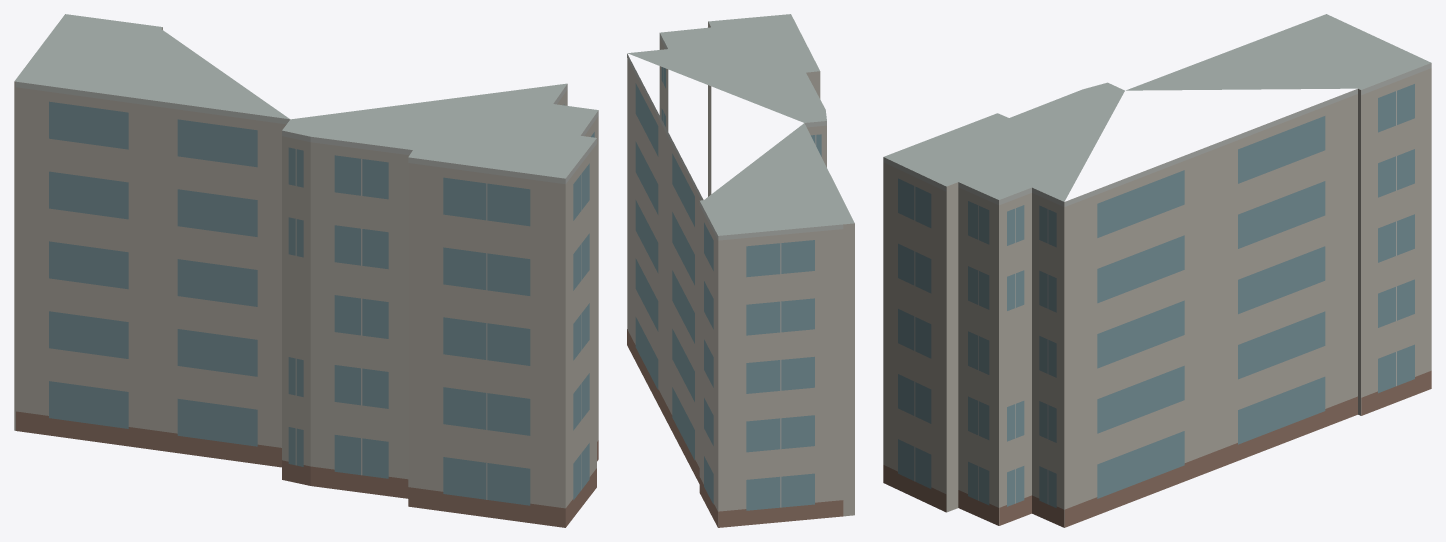
The model's file is survey-upis-32622081.glb.
3 renders of one model, left to right at view 1: azimuth 30°, elevation 25°; view 2: azimuth 150°, elevation 25°; view 3: azimuth 270°, elevation 25°, orthographic. The views are drawn at different scales.
Parts seen in each view (by area): view 1: survey-upis-32622081.tmp; view 2: survey-upis-32622081.tmp; view 3: survey-upis-32622081.tmp.
Part boxes in pixels (x1,y1,x2,y2): survey-upis-32622081.tmp: (14, 14, 598, 527); survey-upis-32622081.tmp: (627, 14, 854, 527); survey-upis-32622081.tmp: (883, 14, 1431, 527).
Bounding box in the file's own units: 18.93 × 15.3 × 23.34.
